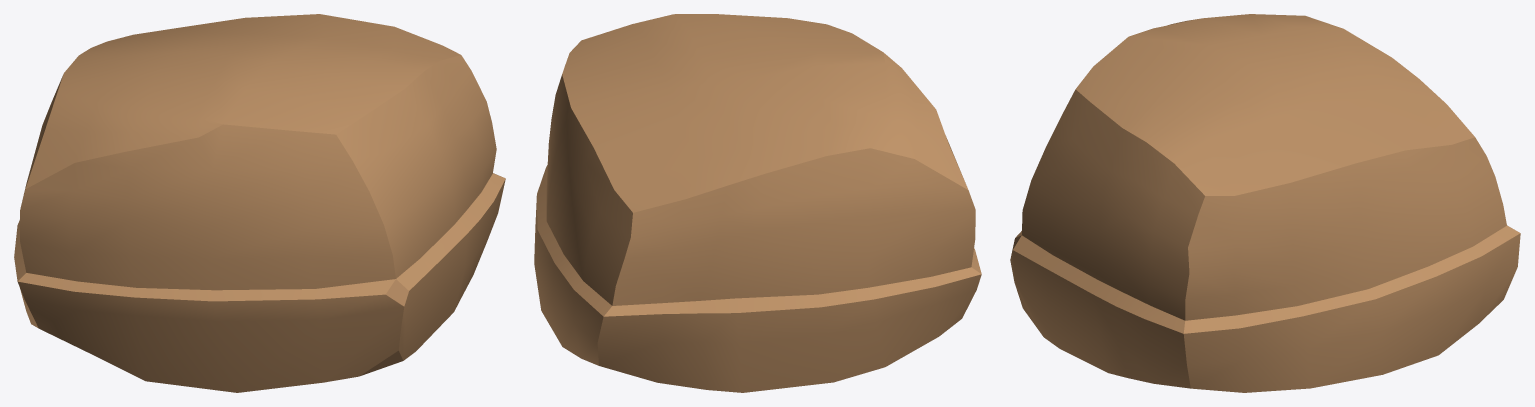
The model's file is rock3Temp.fbx.
3 views of the same model, side by side, from view 1: azimuth 30°, elevation 25°; view 2: azimuth 150°, elevation 25°; view 3: azimuth 270°, elevation 25° (orthographic). The views are drawn at different scales.
Visible parts, largest first — view 1: rock3_low; view 2: rock3_low; view 3: rock3_low.
Part boxes in pixels (<box>): rock3_low: <box>14,14,505,392</box>; rock3_low: <box>534,14,981,392</box>; rock3_low: <box>1010,14,1520,392</box>.
Size of the model in its own units: 2.65 by 1.47 by 2.56.
